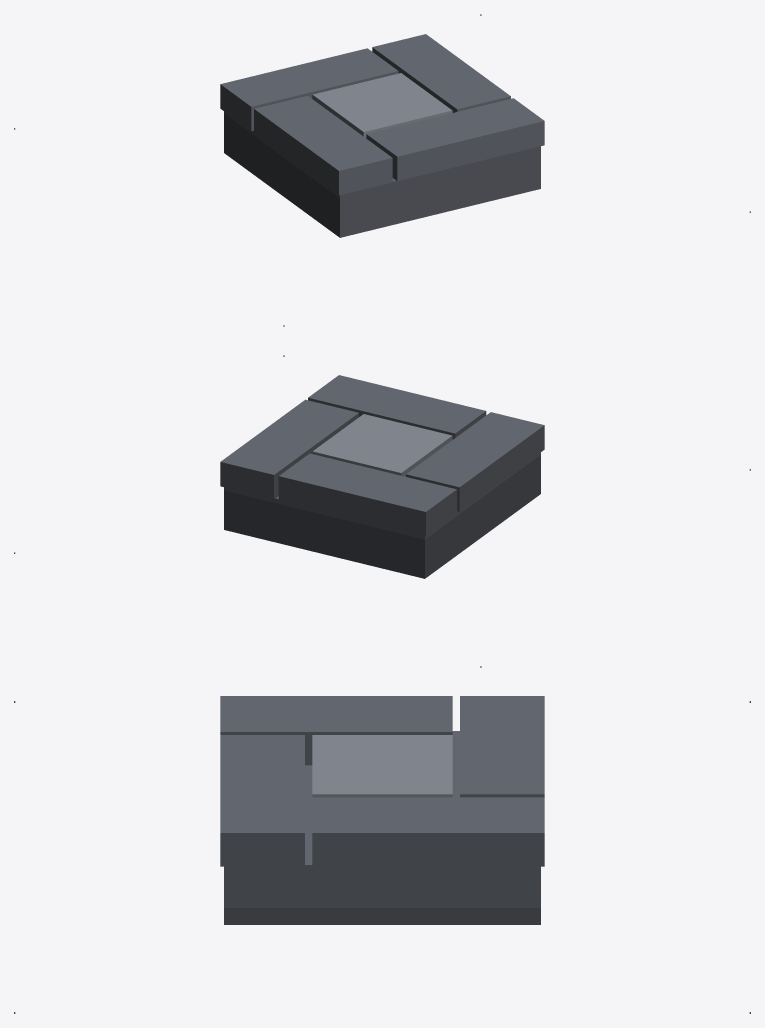
Rendered from floor_metal.glb.
The picture shows the model from 3 angles, top to bottom: view 1: azimuth 30°, elevation 25°; view 2: azimuth 150°, elevation 25°; view 3: azimuth 270°, elevation 25°; orthographic projection. The views are drawn at different scales.
Bounding box in the file's own units: 1 × 0.14 × 1.
1 material, 1 textured.
